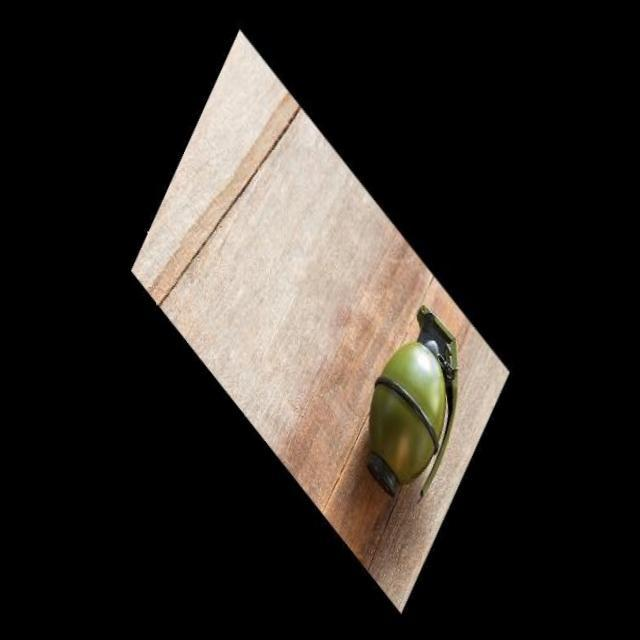grenade: (338, 286, 480, 524)
